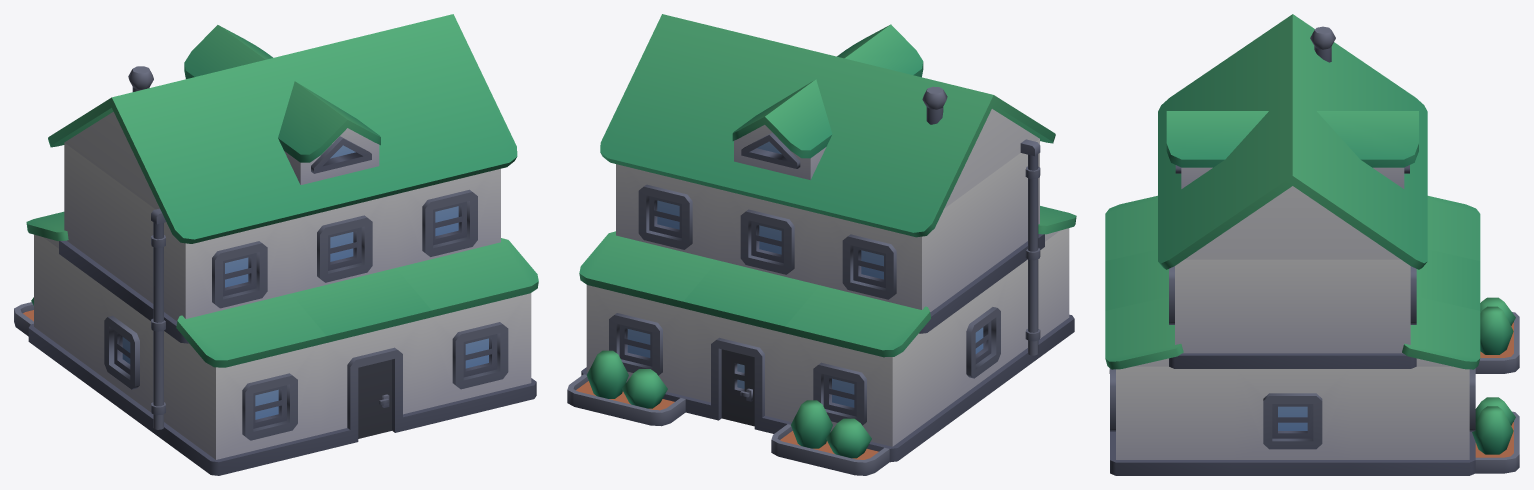
Rendered from suburban-t.glb.
The picture shows the model from 3 angles, left to right: view 1: azimuth 30°, elevation 25°; view 2: azimuth 150°, elevation 25°; view 3: azimuth 270°, elevation 25°; orthographic projection. The views are drawn at different scales.
Visible parts, largest first — view 1: suburban-t; view 2: suburban-t; view 3: suburban-t.
Part boxes in pixels (x1,y1,x2,y2): suburban-t: (14,14,538,475); suburban-t: (567,14,1076,475); suburban-t: (1105,14,1519,475).
Size of the model in its own units: 1.31 by 1.16 by 1.41.
